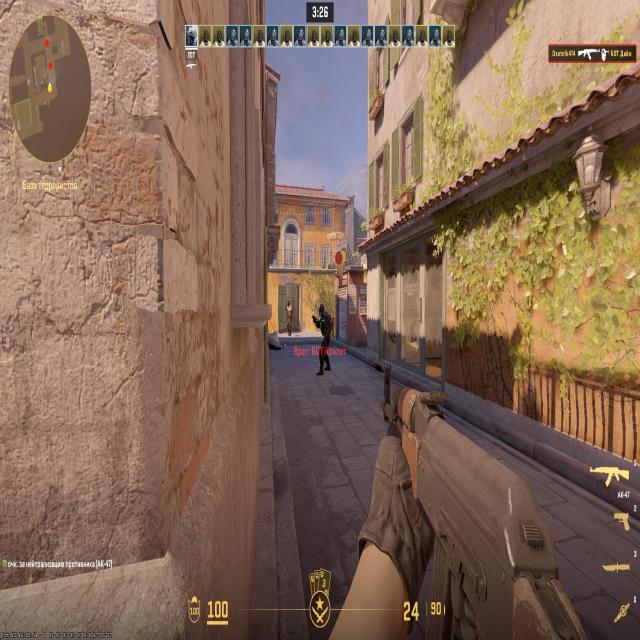CT: (320, 302, 329, 364)
CT_heat: (321, 308, 327, 320)
T: (286, 302, 292, 331)
T_heat: (288, 303, 290, 310)
